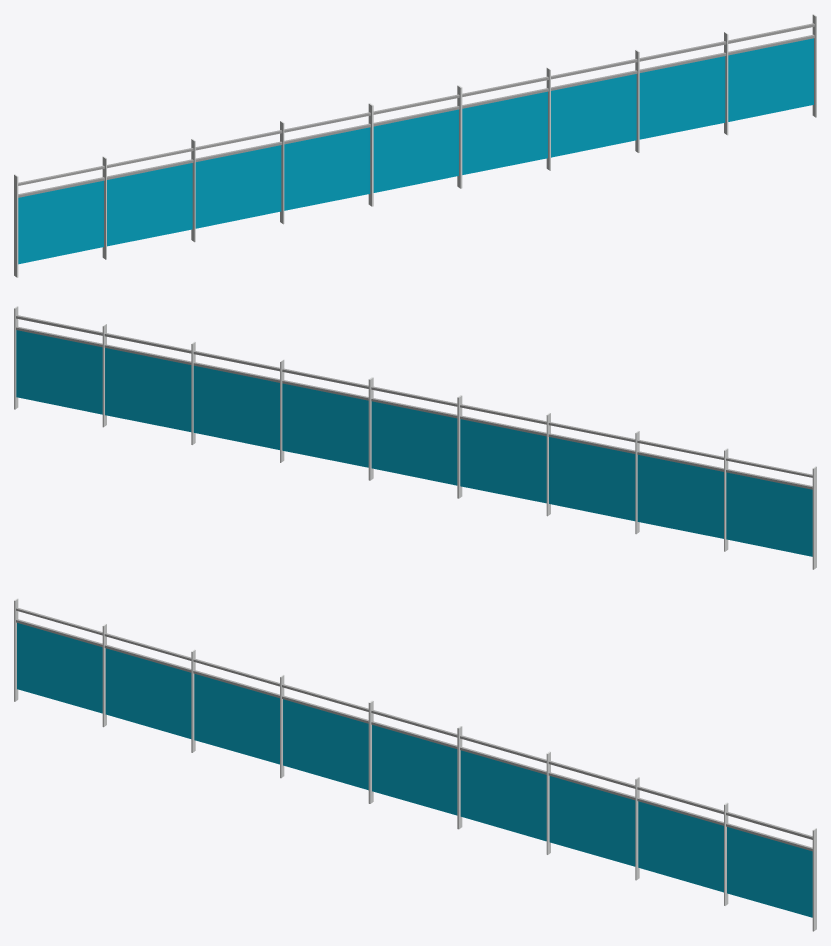
Rendered from 7b1b5dec-e857-40df-9a31-f2a93896fc5a-000adce4.glb.
3 renders of one model, top to bottom at view 1: azimuth 30°, elevation 25°; view 2: azimuth 150°, elevation 25°; view 3: azimuth 330°, elevation 25°, orthographic.
Parts seen in each view (by area): view 1: 玻璃嵌板 - 900mm [711908][7b1b5dec-e857-40df-9a31-f2a93896fc5a-0; view 2: 玻璃嵌板 - 900mm [711908][7b1b5dec-e857-40df-9a31-f2a93896fc5a-0; view 3: 玻璃嵌板 - 900mm [711908][7b1b5dec-e857-40df-9a31-f2a93896fc5a-0.
Boxes of the visible parts, x1,y1,x2,y2 form: 玻璃嵌板 - 900mm [711908][7b1b5dec-e857-40df-9a31-f2a93896fc5a-0: (14, 14, 816, 277); 玻璃嵌板 - 900mm [711908][7b1b5dec-e857-40df-9a31-f2a93896fc5a-0: (14, 306, 816, 569); 玻璃嵌板 - 900mm [711908][7b1b5dec-e857-40df-9a31-f2a93896fc5a-0: (14, 598, 816, 931).
Bounding box in the file's own units: 7.21 × 1.17 × 0.0493.
